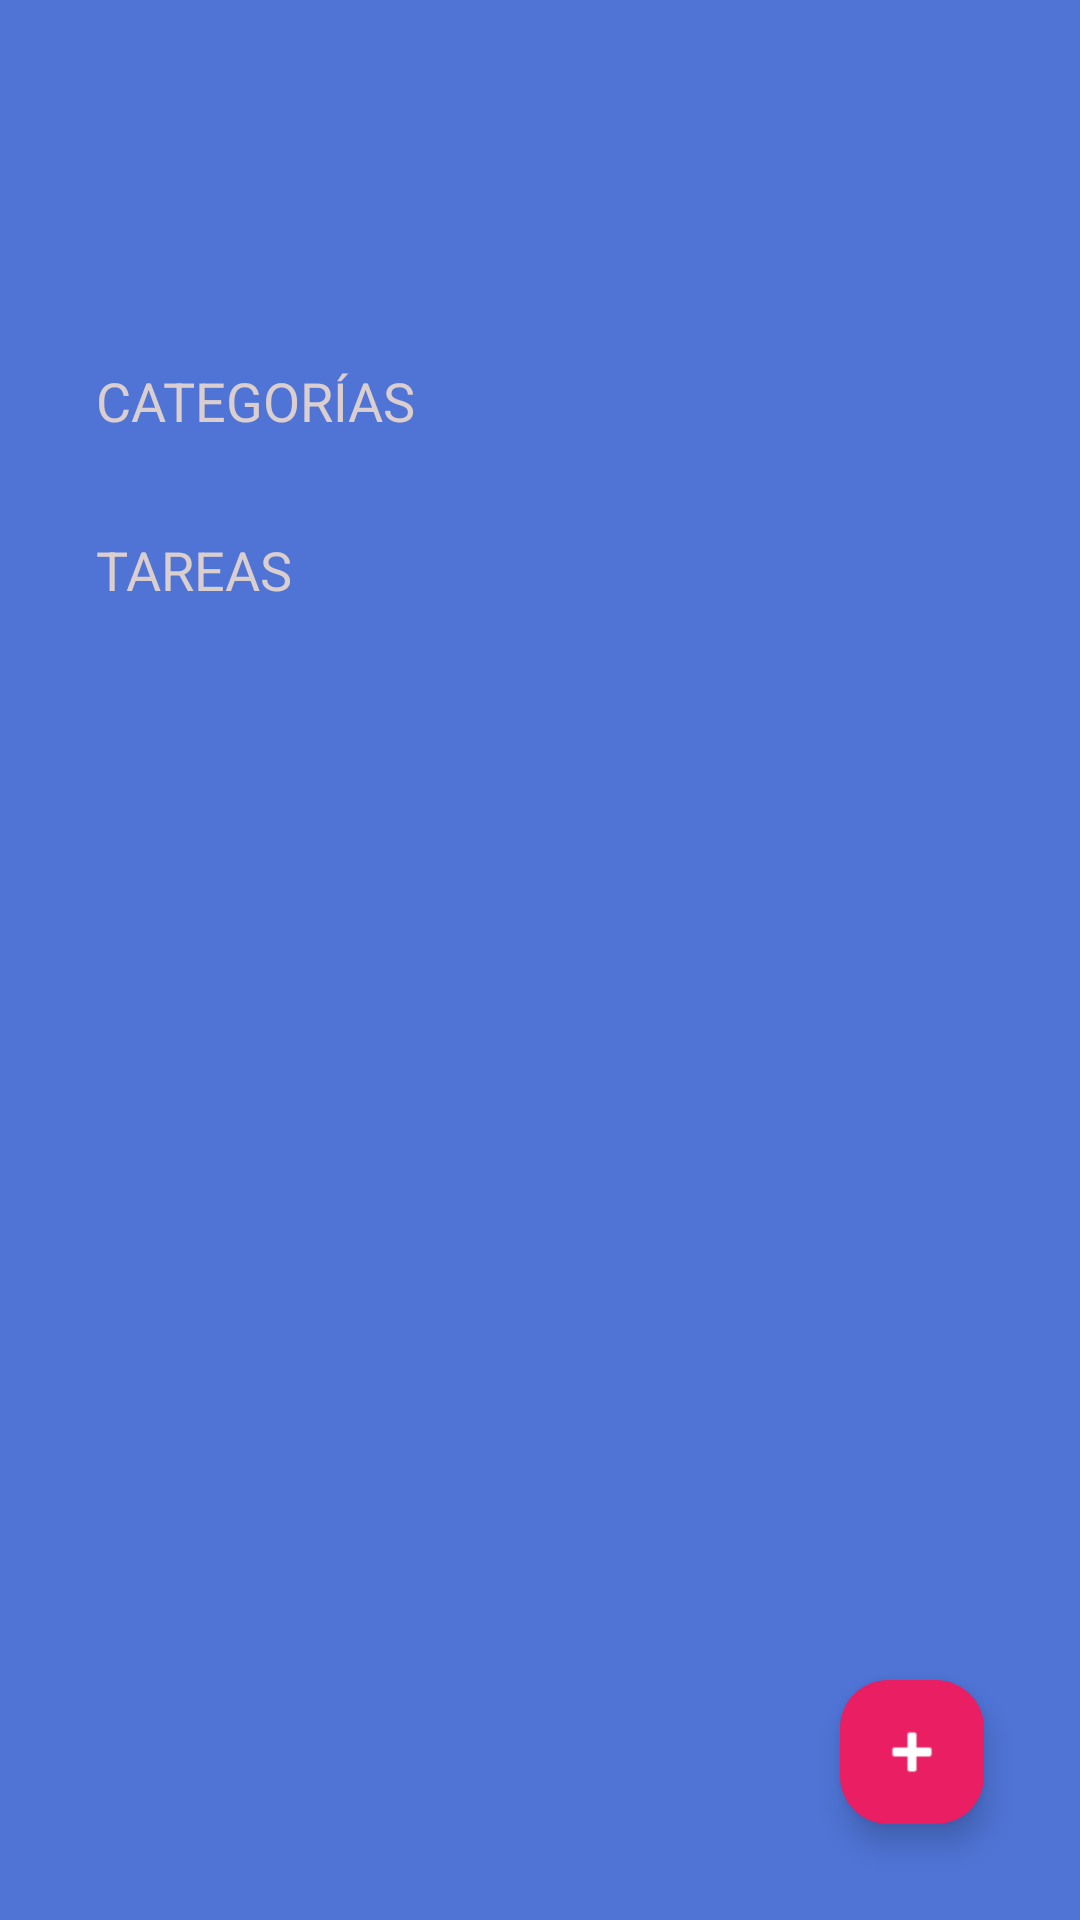

Named icons in this screenshot (1080*1920) and their bounding boxes, (x1, y1, x2, y2):
add: (840, 1680, 984, 1824)
